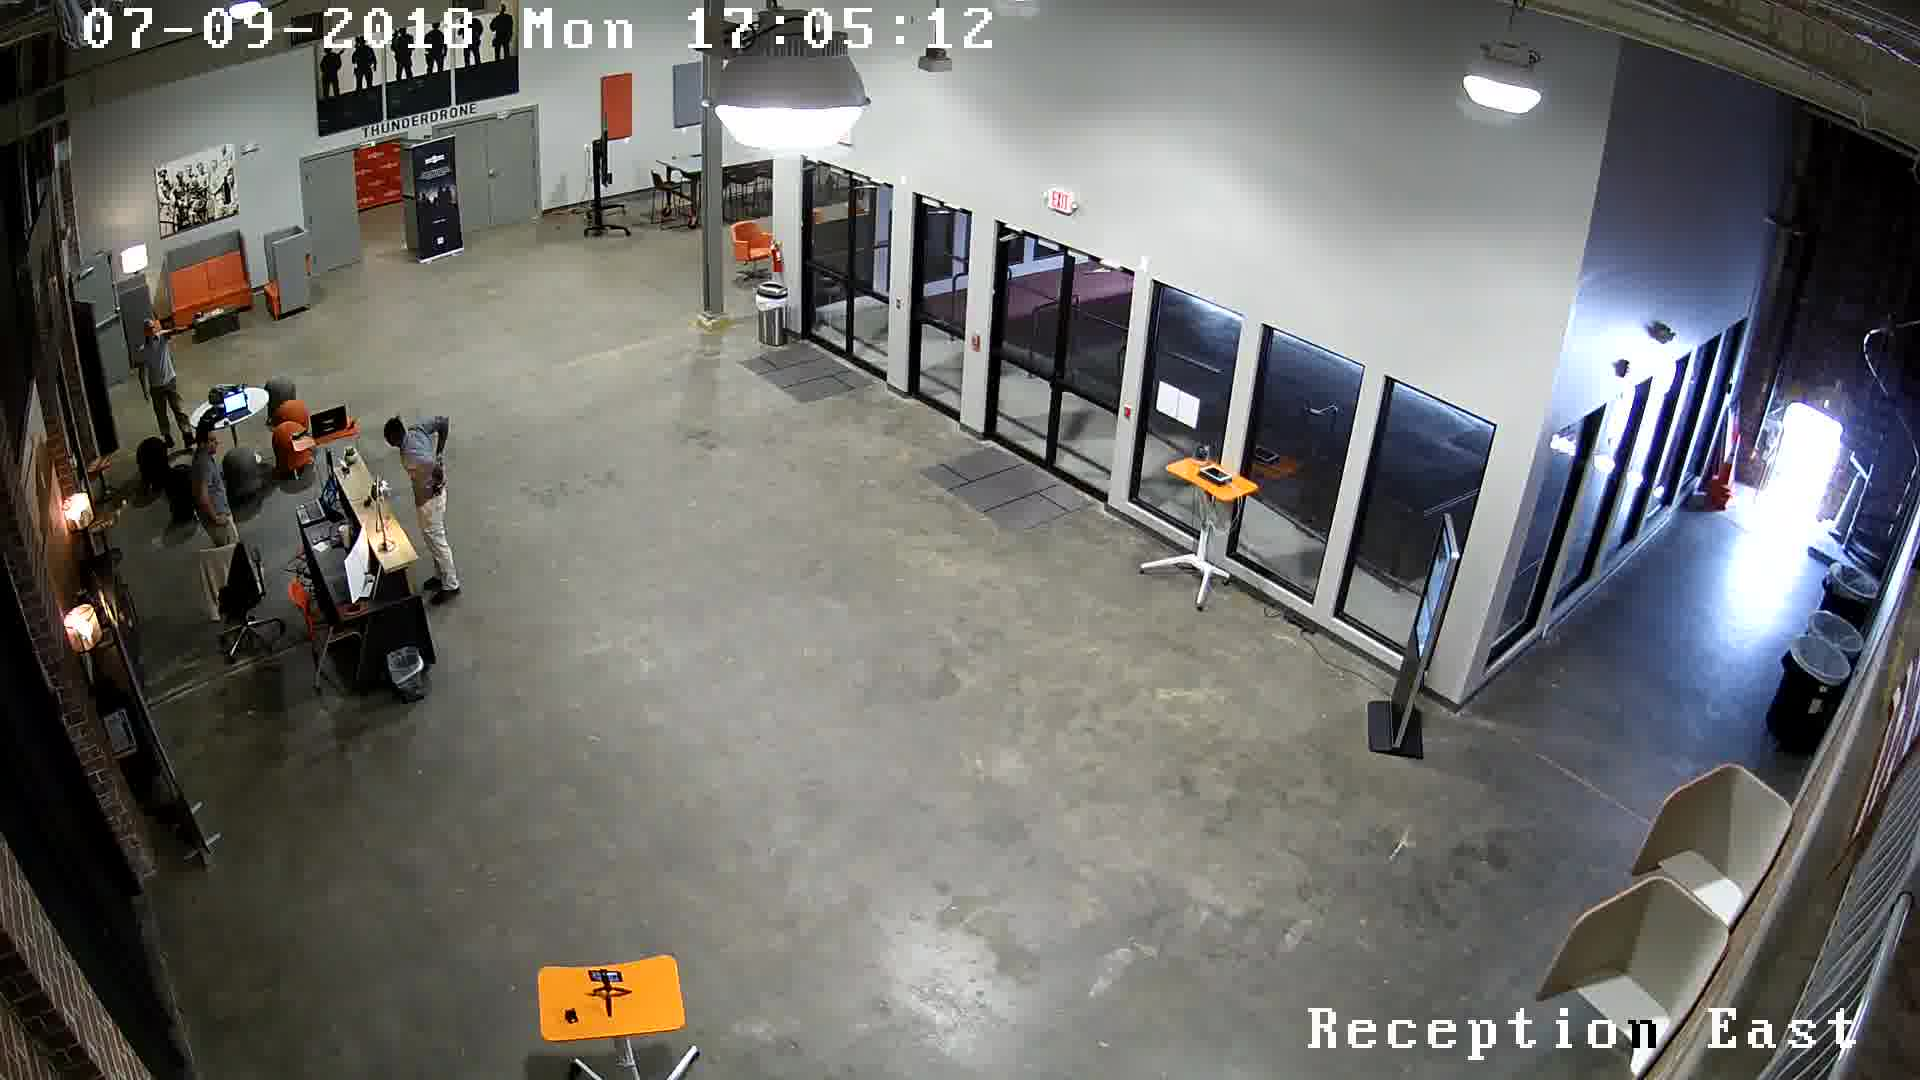pistol: (421, 451, 460, 506)
